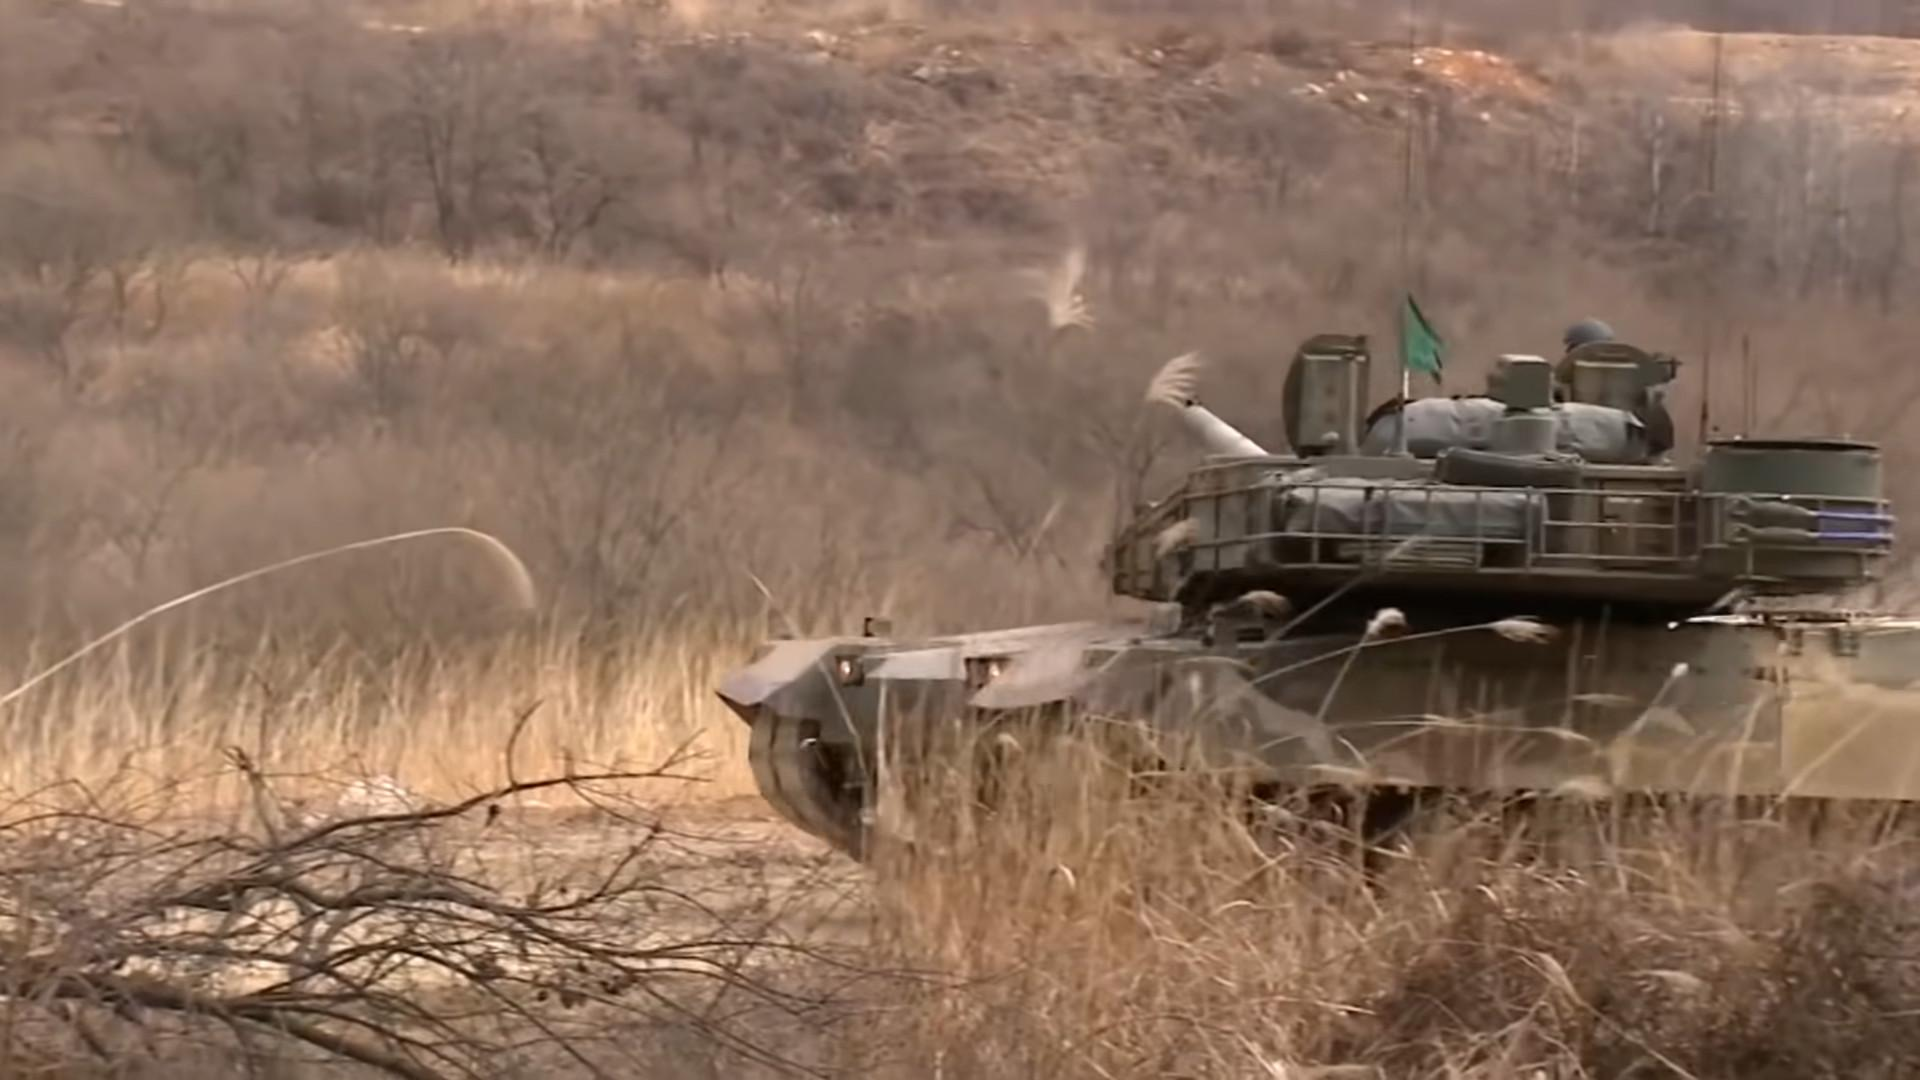tank: (702, 332, 1919, 904)
